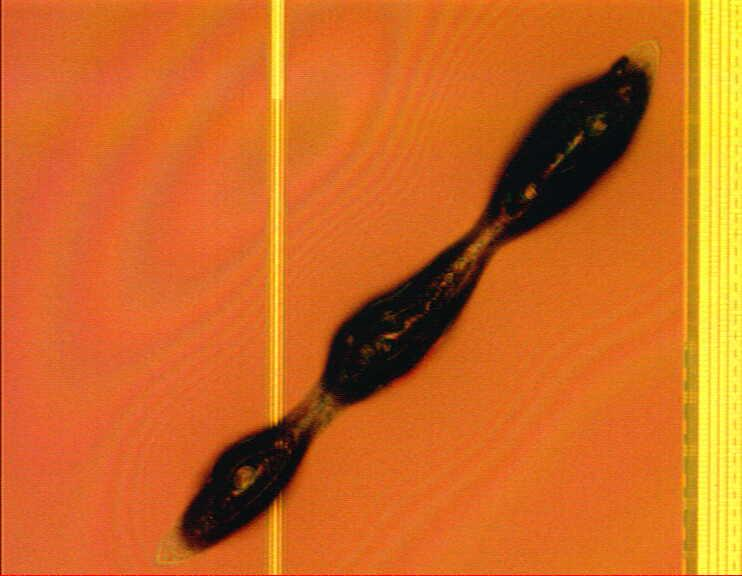PIQ PARTICLE: (154, 36, 670, 575)
